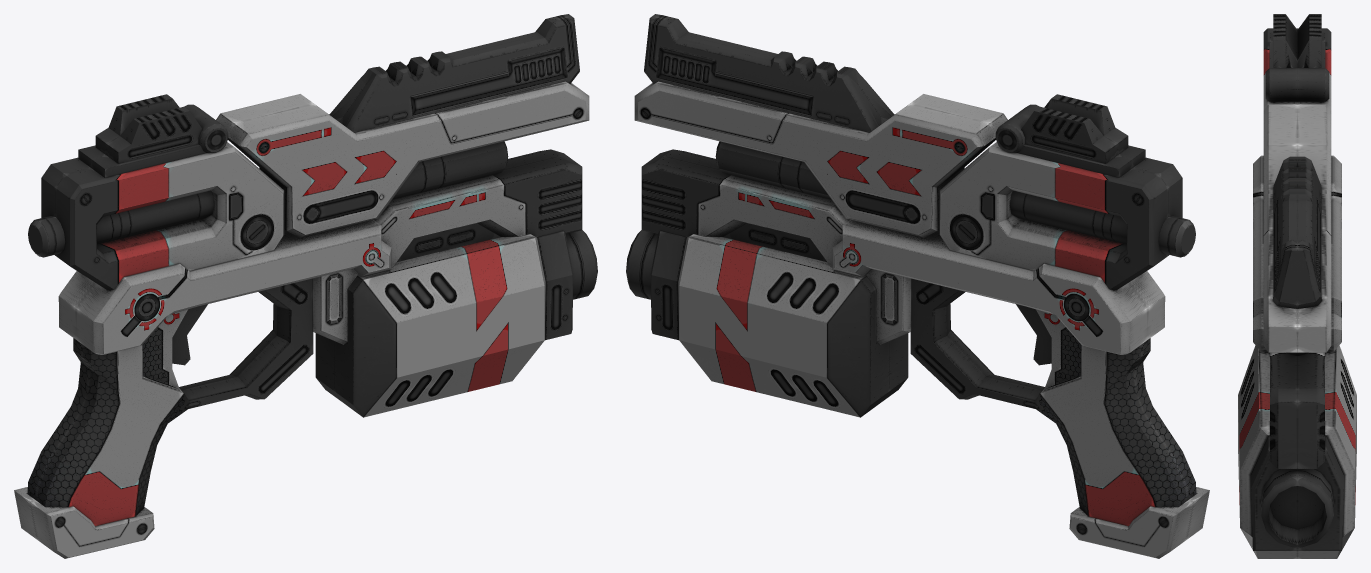
Rendered from ScifiGun.fbx.
3 views of the same model, side by side, from view 1: azimuth 30°, elevation 25°; view 2: azimuth 150°, elevation 25°; view 3: azimuth 270°, elevation 25° (orthographic). The views are drawn at different scales.
Parts seen in each view (by area): view 1: BaseMesh; view 2: BaseMesh; view 3: BaseMesh.
Part boxes in pixels (x1=…): BaseMesh: x1=14, y1=14, x2=597, y2=558; BaseMesh: x1=626, y1=14, x2=1209, y2=558; BaseMesh: x1=1238, y1=14, x2=1356, y2=558.
Size of the model in its own units: 683 by 487 by 121.
